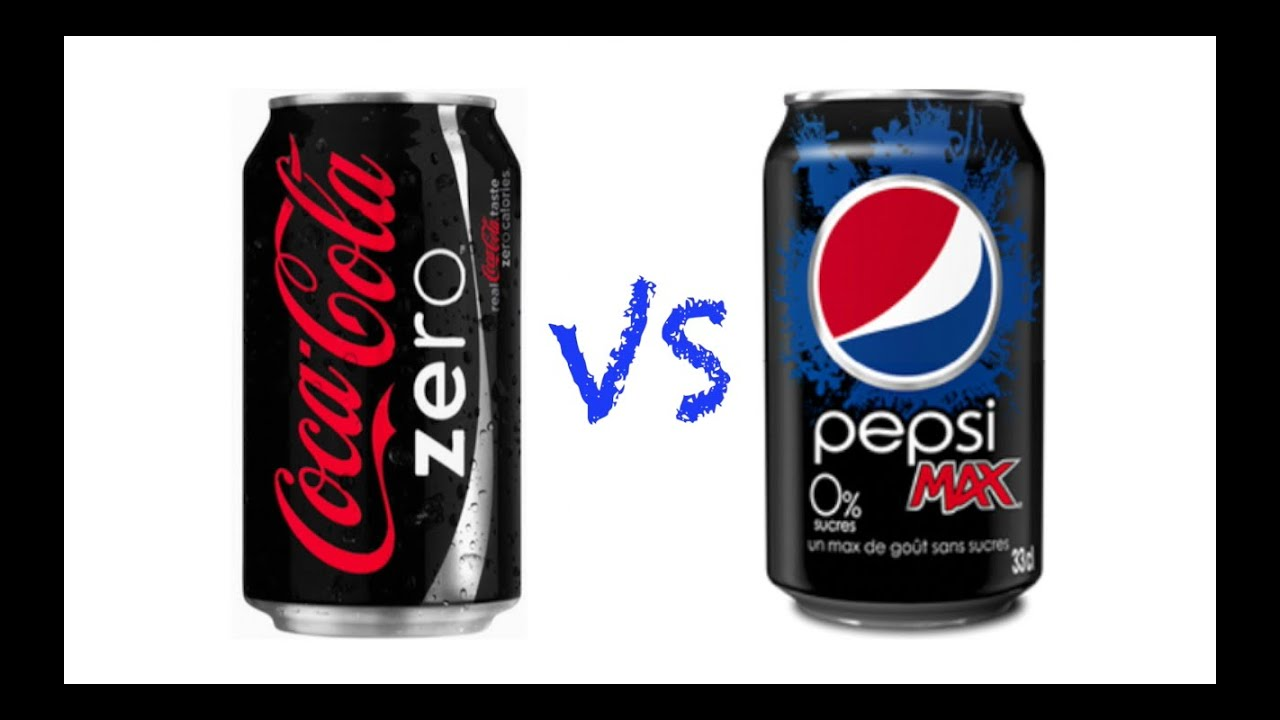pepsi: (808, 175, 992, 390)
